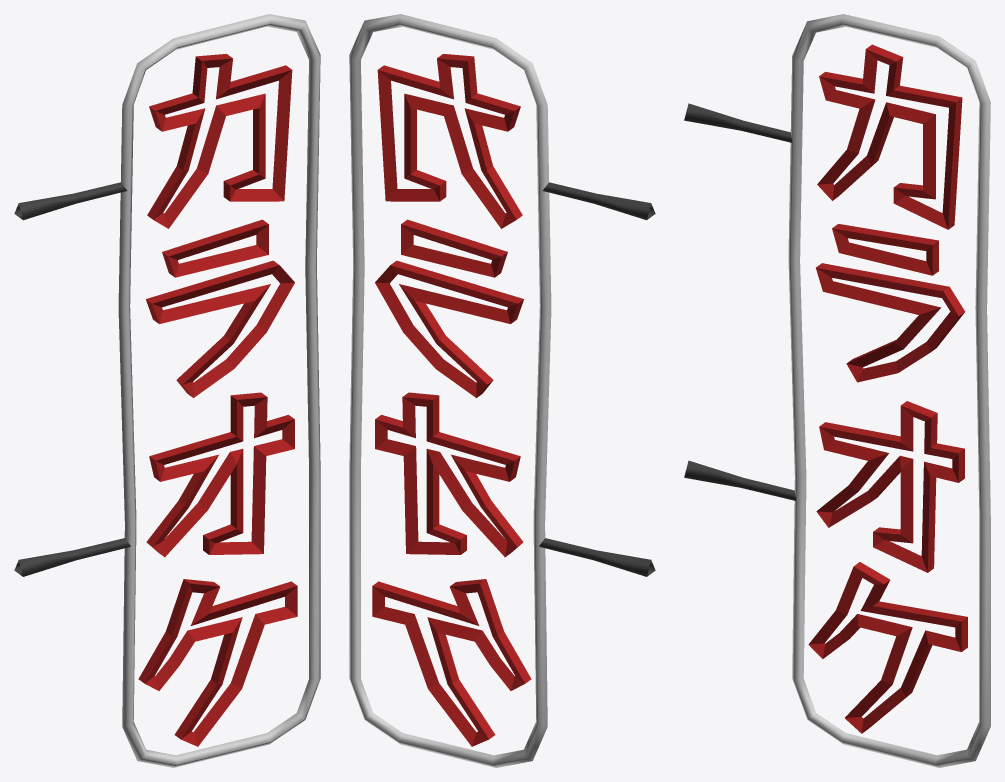
File: SM_neonsign_karaoke.fbx
3 views of the same model, side by side, from view 1: azimuth 30°, elevation 25°; view 2: azimuth 150°, elevation 25°; view 3: azimuth 330°, elevation 25° (orthographic).
Visible parts, largest first — view 1: Line030; view 2: Line030; view 3: Line030.
Boxes of the visible parts, <box> form: Line030: <box>14,14,320,767</box>; Line030: <box>349,14,655,767</box>; Line030: <box>684,14,990,767</box>.
Bounding box in the file's own units: 68.46 × 158 × 3.49.
